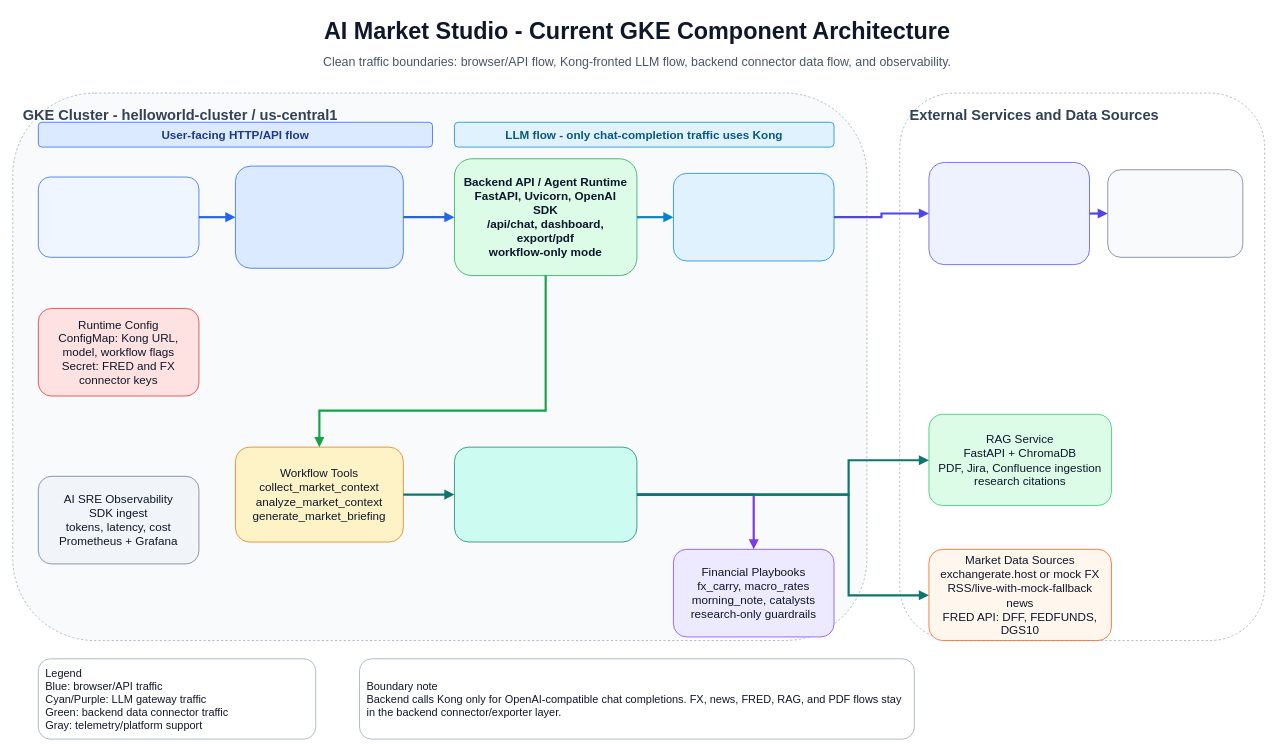
Some shapes in this 1278 by 752 pixel diagram are drawn without their labels. Each missing label, with the centre of its shape:
"ai-gateway-service FastAPI + LiteLLM provider key ownership model routing" goes at (x=1009, y=213).
"Connector Layer FX rates, RSS/mock news FRED, RAG, correlation" goes at (x=545, y=494).
"Frontend UI ai-market-studio-ui Static HTML, Chart.js, Nginx 1 pod for POC" goes at (x=319, y=216).
"Kong Gateway OSS ai-gateway namespace ClusterIP /v1 route" goes at (x=753, y=217).
"Model Providers OpenAI: gpt-5.4 / gpt-4o DeepSeek: deepseek-chat" goes at (x=1175, y=213).
"User Browser chat, charts, PDF export" goes at (x=118, y=216).
